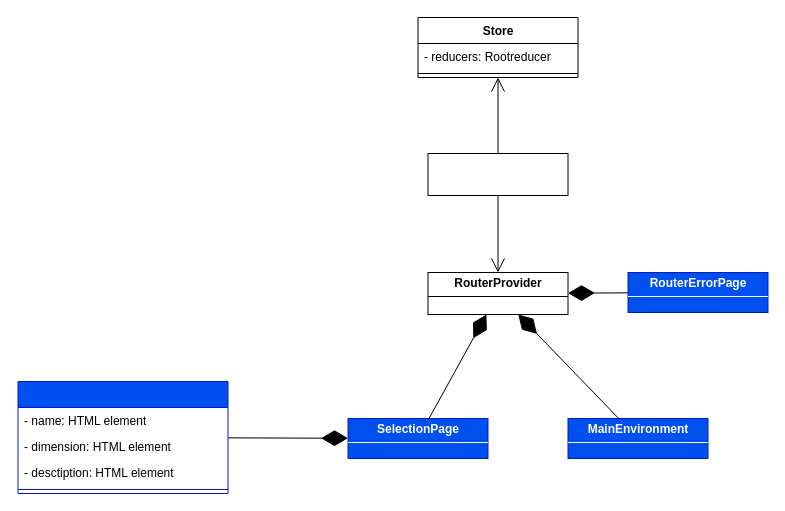
The diagram is 785 pixels wide and 511 high, and some of its shapes have lost their labels. The box of each missing label's shape, as (x1, y1, x2, y2) in pixels:
DatasetItem: (17, 380, 228, 494)
Provider: (427, 152, 568, 196)
